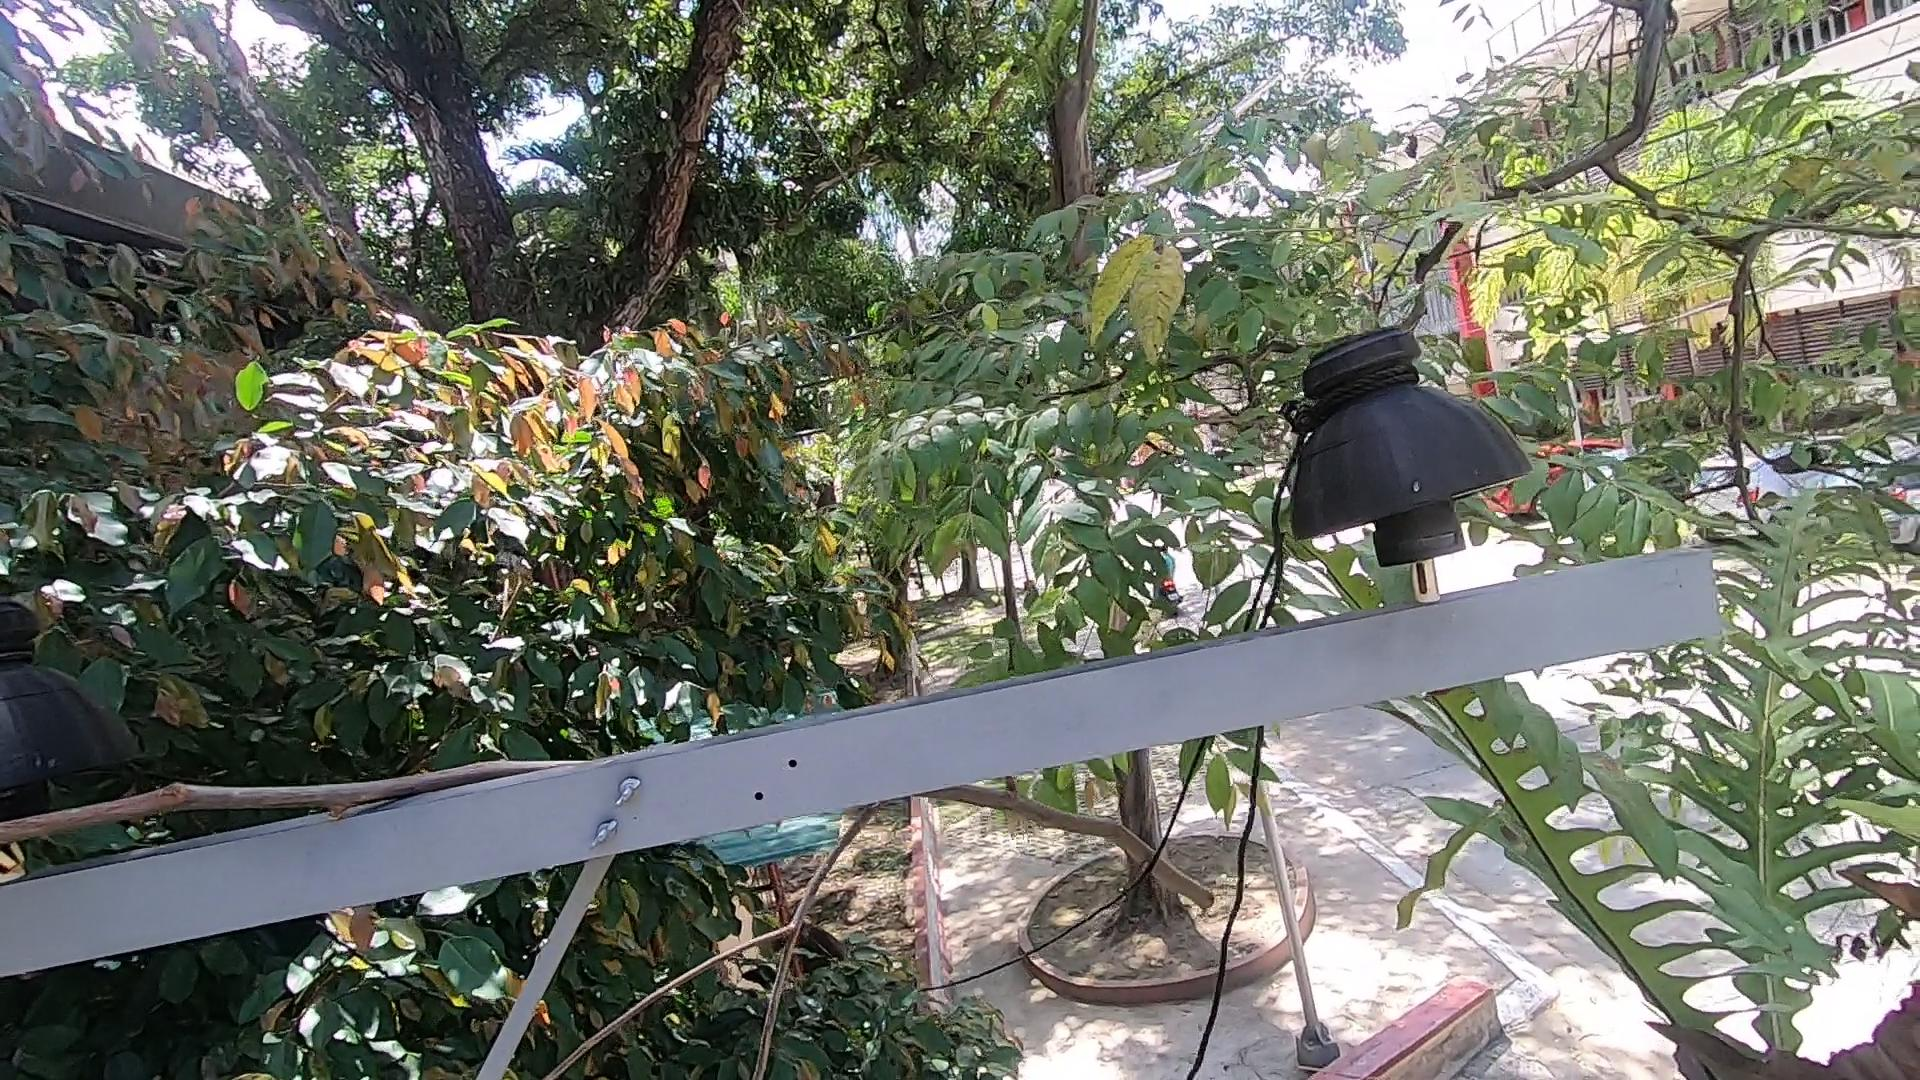tree branch: (539, 802, 884, 1080), (1, 744, 592, 862), (920, 785, 1222, 924)
